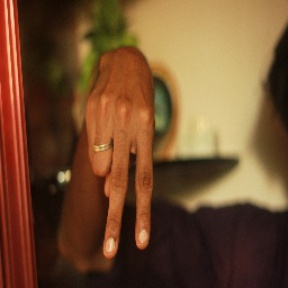Y: (74, 77, 159, 264)
